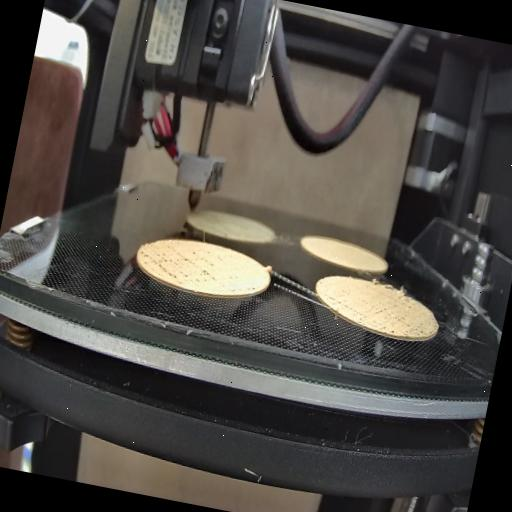under_extrusion: (147, 246, 219, 292), (370, 299, 427, 340), (324, 292, 364, 320), (226, 278, 256, 300)
